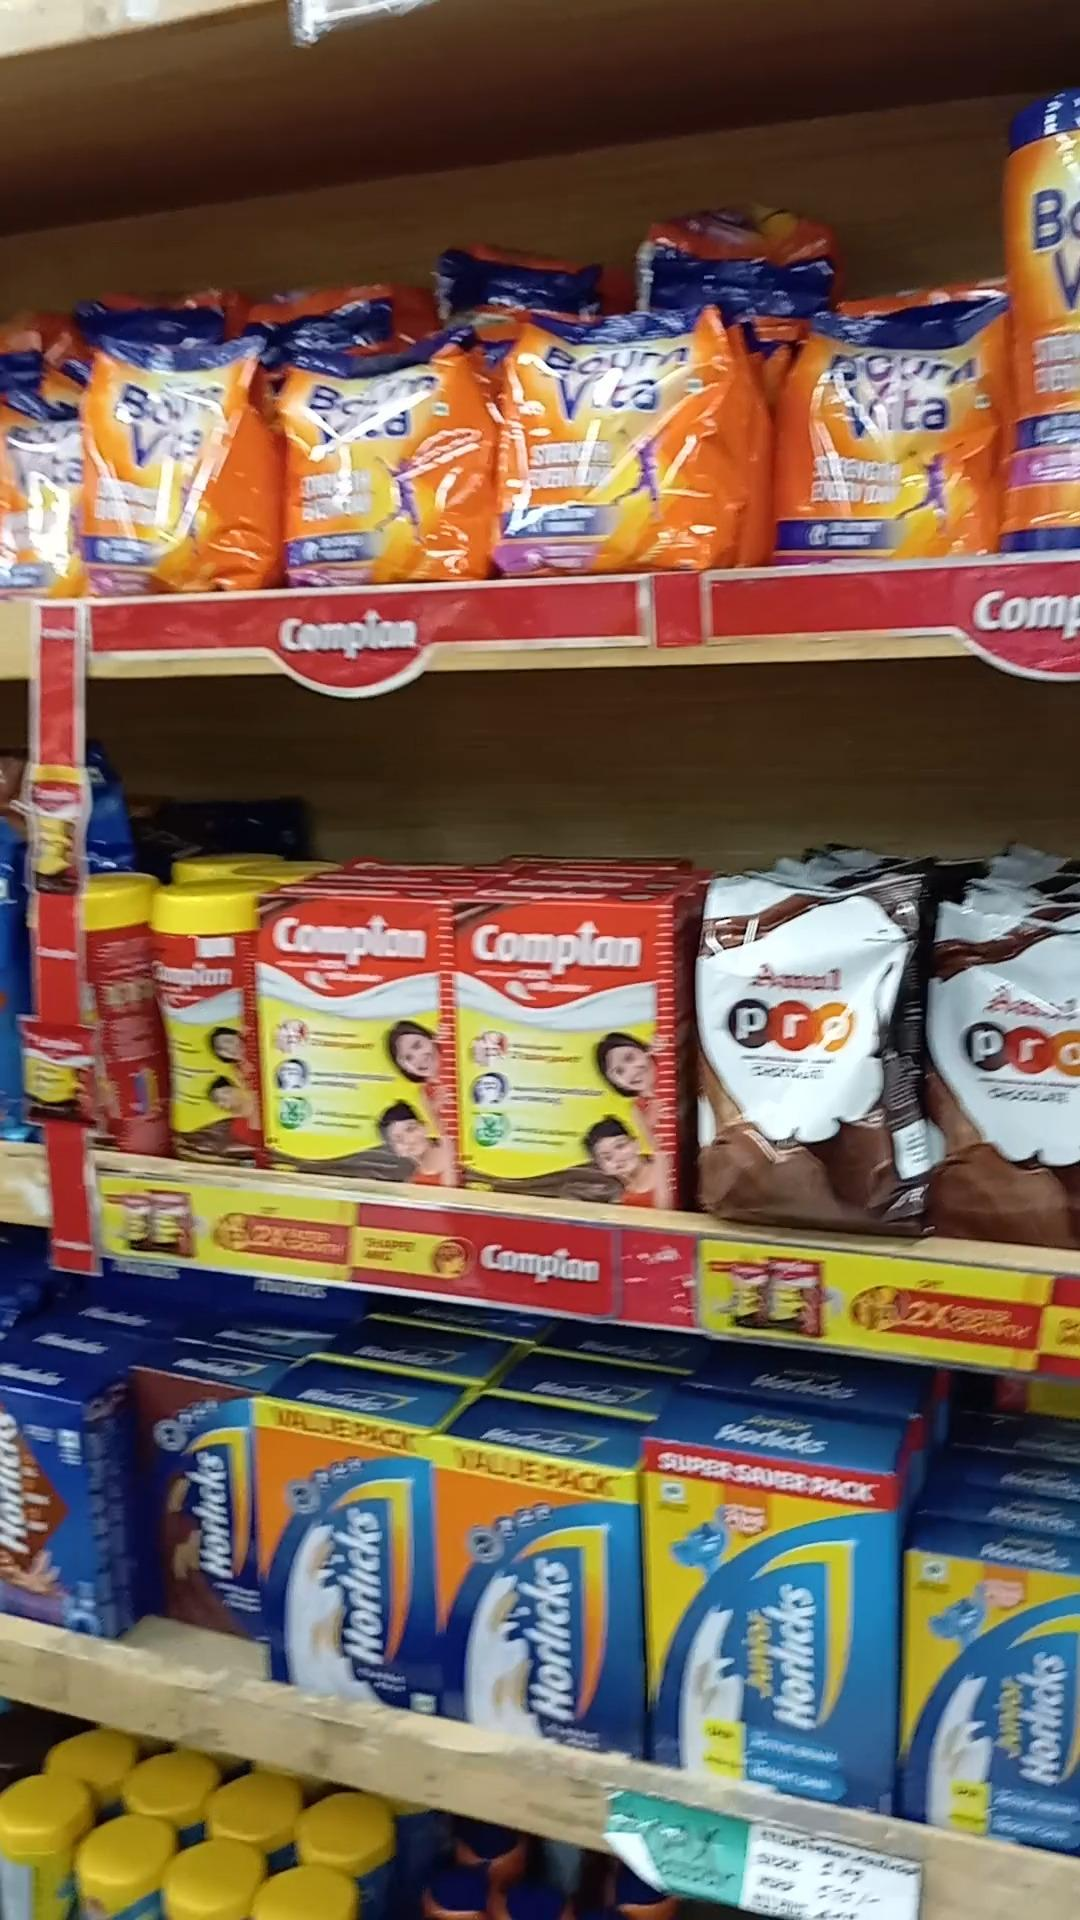BOURN_VITA_500_G_POUCH: (504, 302, 733, 570), (782, 301, 998, 556), (80, 328, 274, 592), (282, 326, 481, 580)
COMPLAN_CHOCOLATE_500_GMS_JAR: (152, 891, 255, 1158)
COMPLAN_CHOCOLATE_500_GMS_PACK: (462, 901, 675, 1211), (261, 899, 454, 1184)
HORLICK_CLASSIC_MALT_500_G_PACK: (438, 1439, 634, 1745), (261, 1412, 426, 1705)
